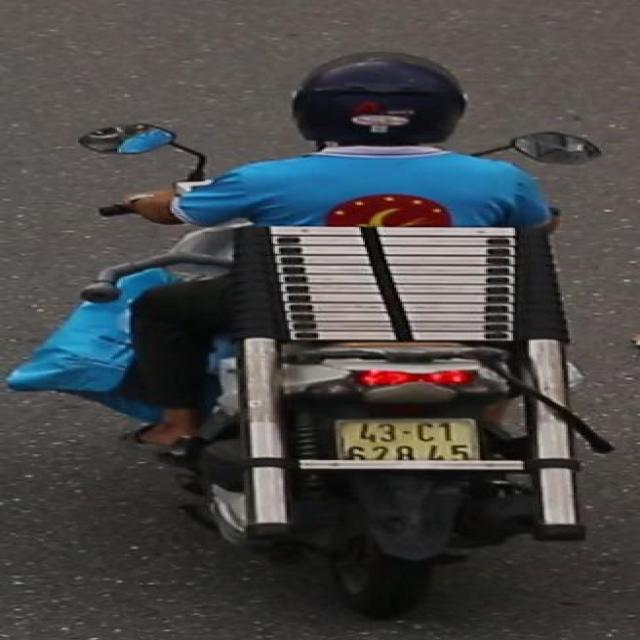LP: (312, 409, 498, 463)
helmet: (271, 38, 494, 165)
